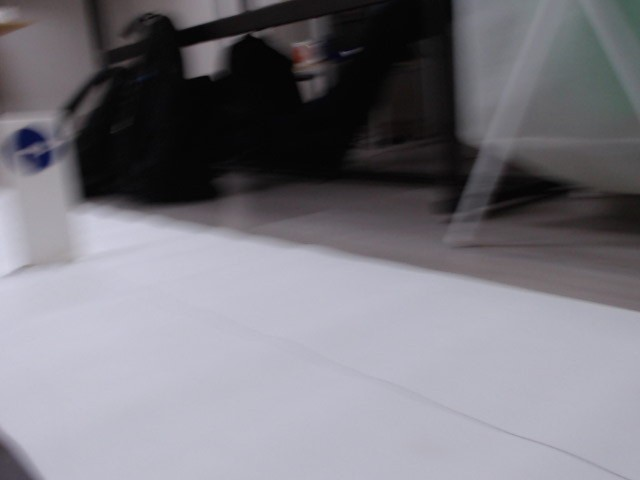Right: (4, 126, 54, 179)
